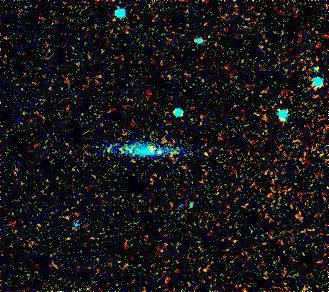star: (141, 137, 171, 167)
